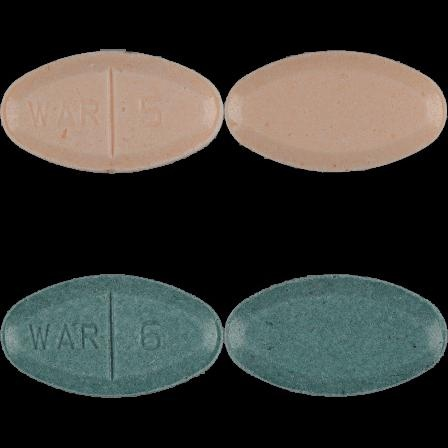68382-056: (0, 0, 224, 224)
